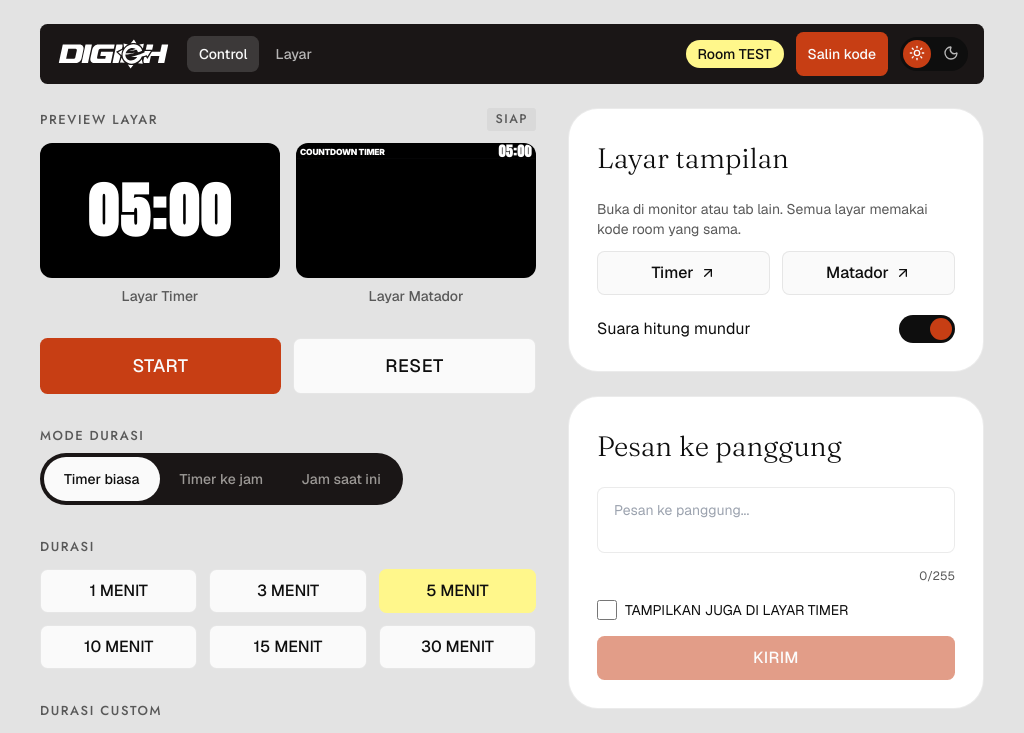
ControlPage › klik START → running, tombol berubah PAUSE
Click the button "START". click: (160, 366)
box: [40, 338, 281, 394]
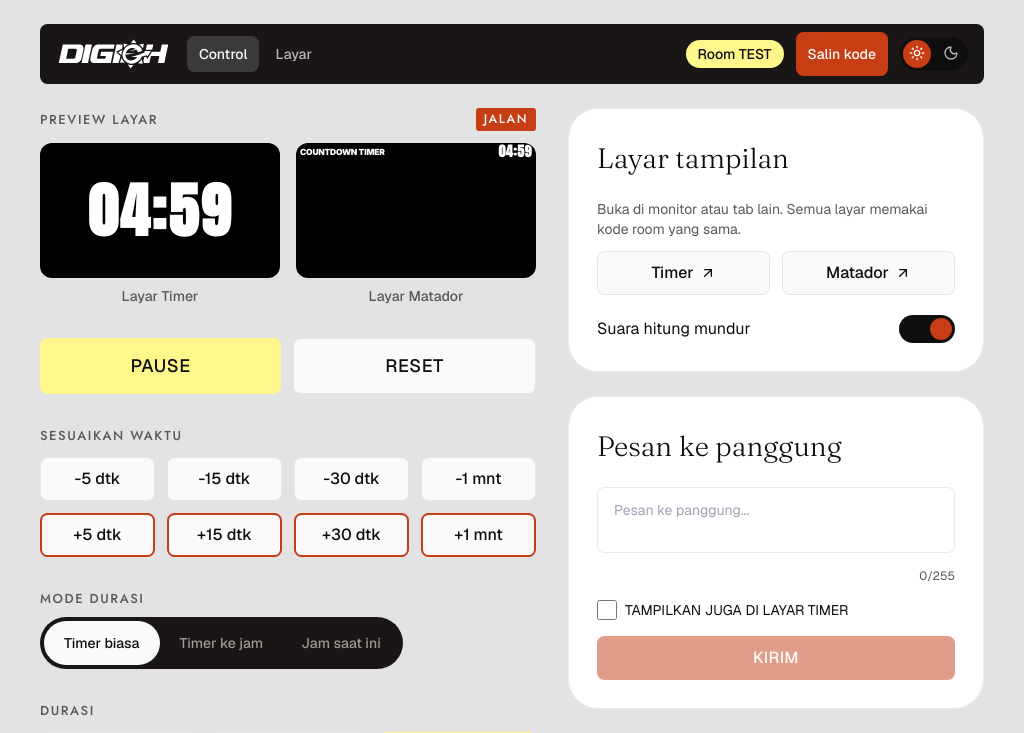
Expected: the button "PAUSE" is shown, [40, 338, 281, 394]
